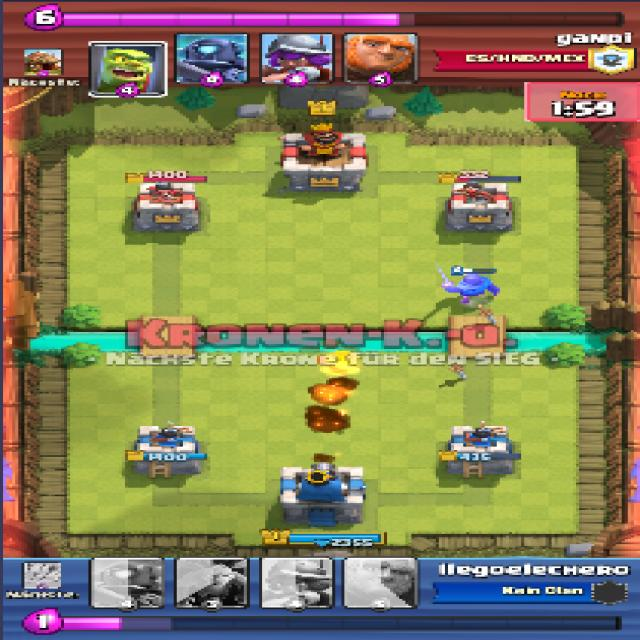Player-Fireball: (318, 344, 368, 384)
Player-Knight: (441, 274, 504, 304)
